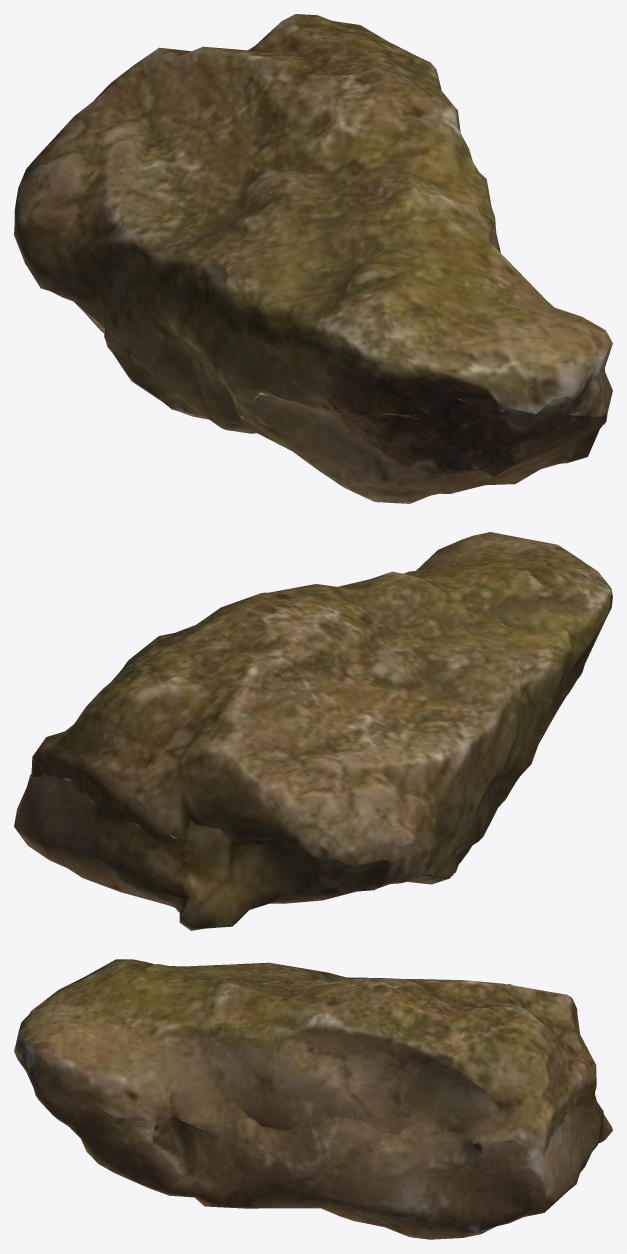
The model's file is rock_4.glb.
3 renders of one model, top to bottom at view 1: azimuth 30°, elevation 25°; view 2: azimuth 150°, elevation 25°; view 3: azimuth 270°, elevation 25°, orthographic. The views are drawn at different scales.
Parts seen in each view (by area): view 1: rock_moss_set_01_rock05; view 2: rock_moss_set_01_rock05; view 3: rock_moss_set_01_rock05.
Boxes of the visible parts, x1,y1,x2,y2 form: rock_moss_set_01_rock05: [14, 14, 612, 503]; rock_moss_set_01_rock05: [14, 532, 612, 930]; rock_moss_set_01_rock05: [14, 959, 612, 1239].
Size of the model in its own units: 1.82 by 1.21 by 3.
1 material, 1 textured.
